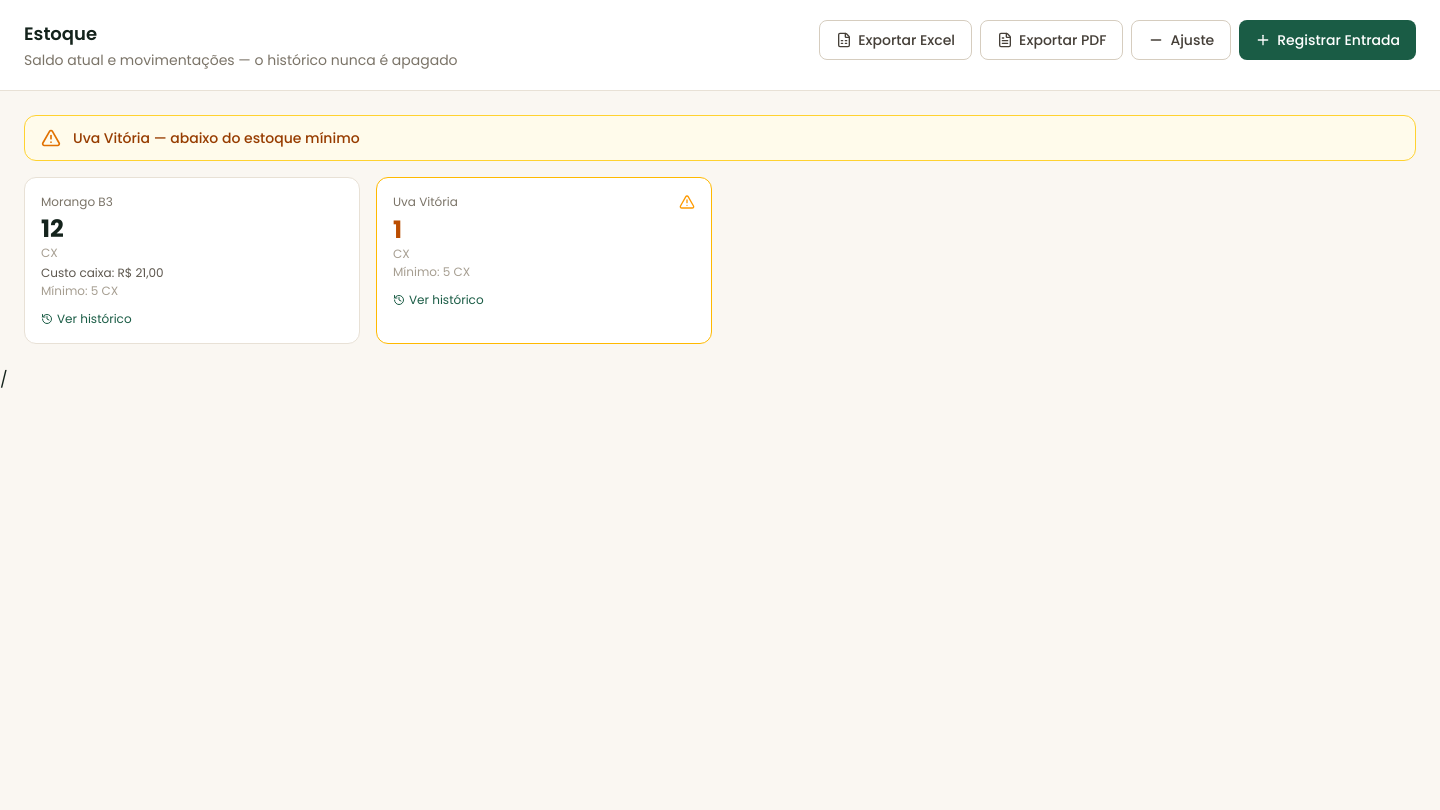
Estoque › histórico do produto com compra, ajuste e editar entrada
This screenshot has width=1440, height=810.
Click the button "Ver histórico" below "Custo caixa:" at (86, 319), box [41,311,132,327]
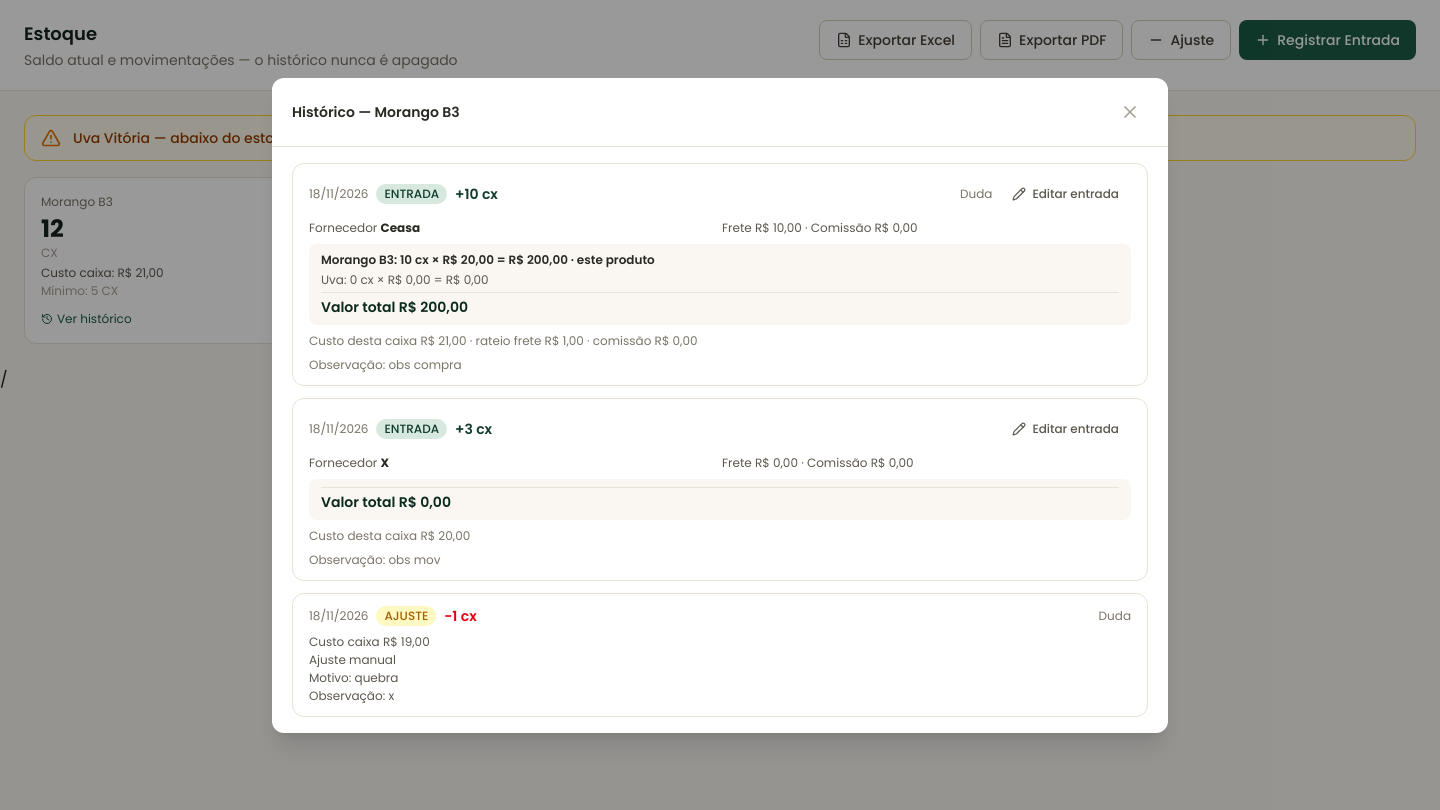
Now the text "Morango B3: 10 cx × R$ 20,00 = R$ 200,00 · este produto" is shown, box [321,250,655,268]
Now the text "Uva: 0 cx × R$ 0,00 = R$ 0,00" is shown, box [321,270,489,288]
Now the text "Observação: obs compra" is shown, box [309,356,462,372]
Click the 1st button "Editar entrada" at (1066, 194), box [1000,176,1131,212]
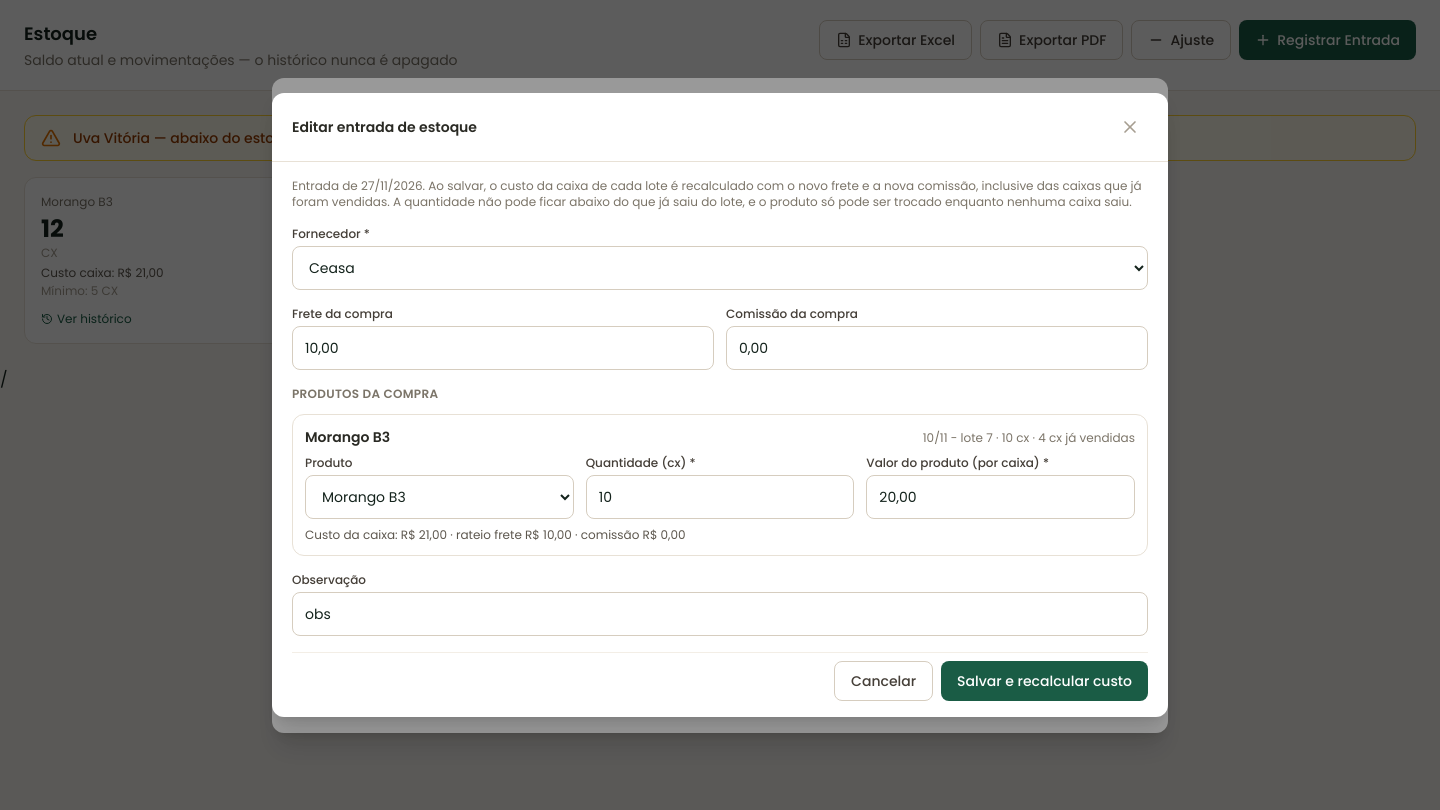
Now the heading "Editar entrada de estoque" is shown, box [292,117,489,137]
Click the button "Cancelar" at (884, 681), box [834,661,933,701]
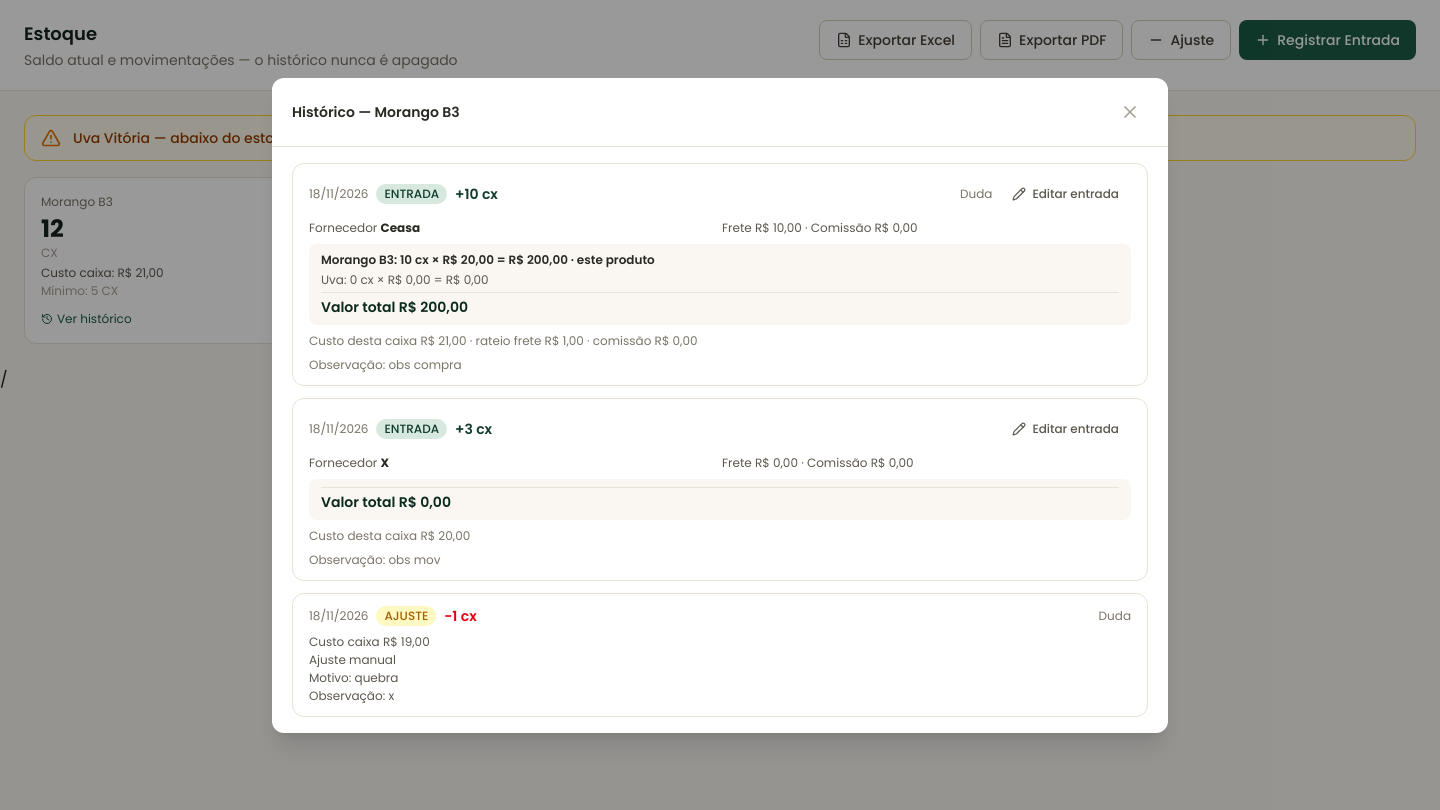
Click the button named "Fechar" at (1130, 112), box [1112,94,1148,130]
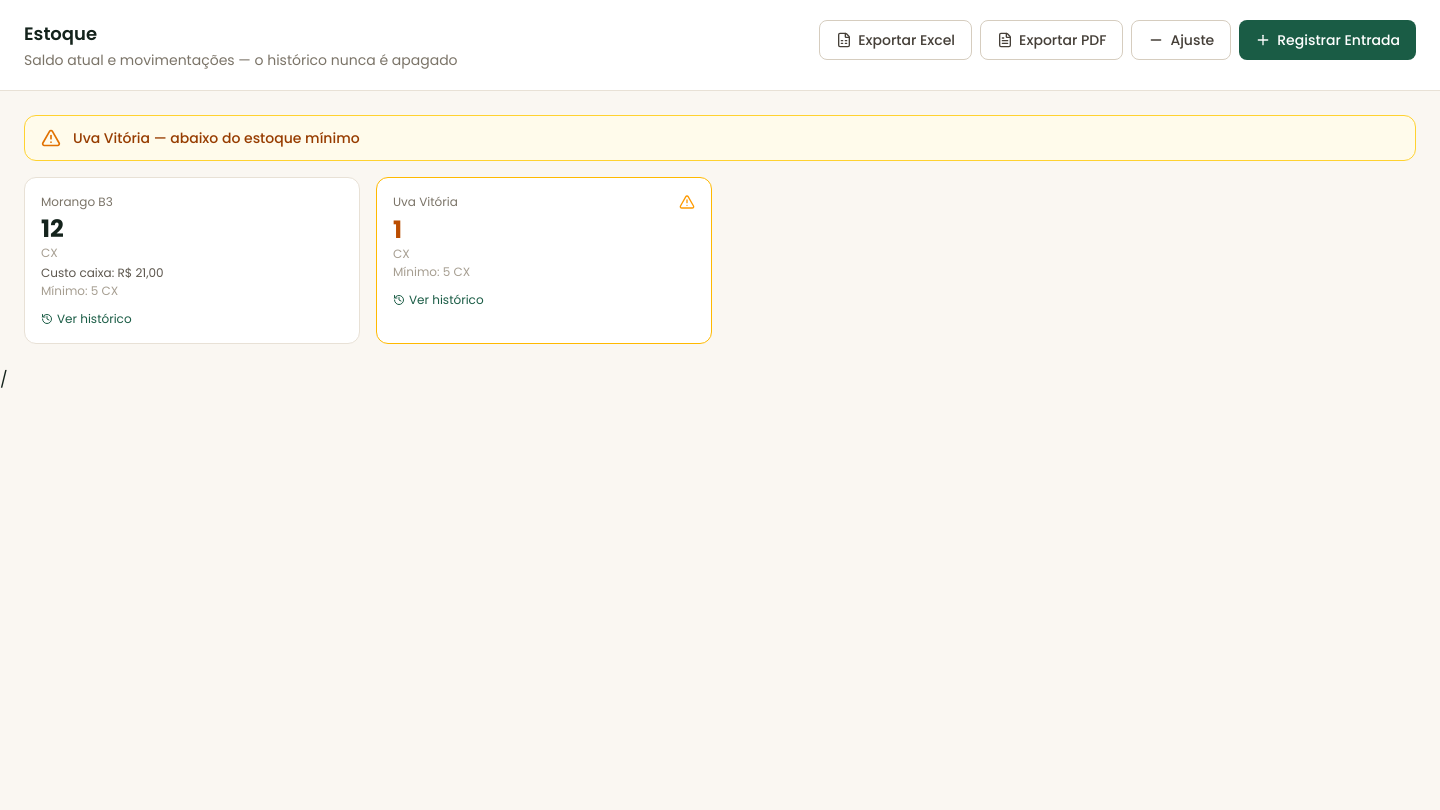
Click the 1st button "Ver histórico" at (438, 300), box [393,292,484,308]
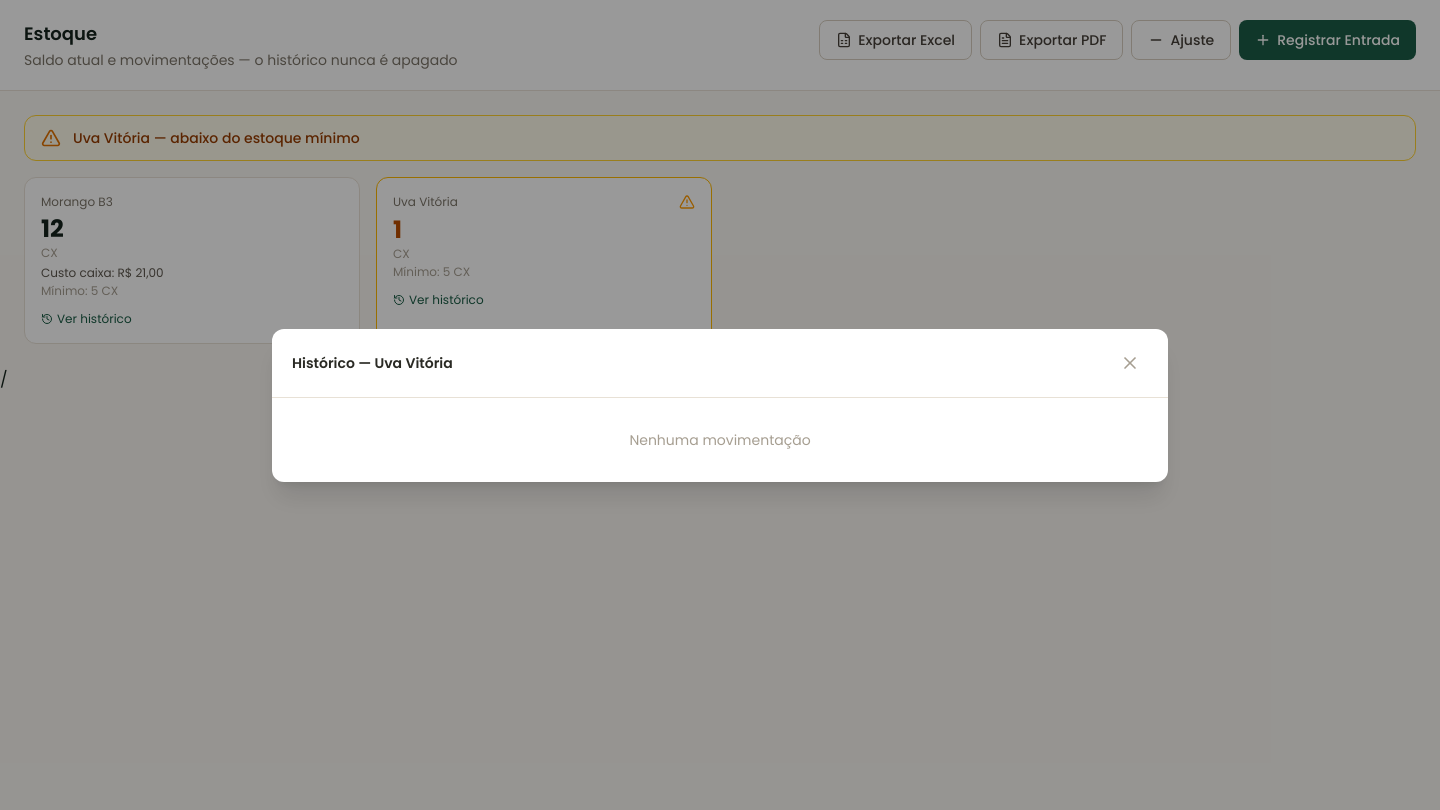
Now the text "Nenhuma movimentação" is shown, box [629,430,811,450]
